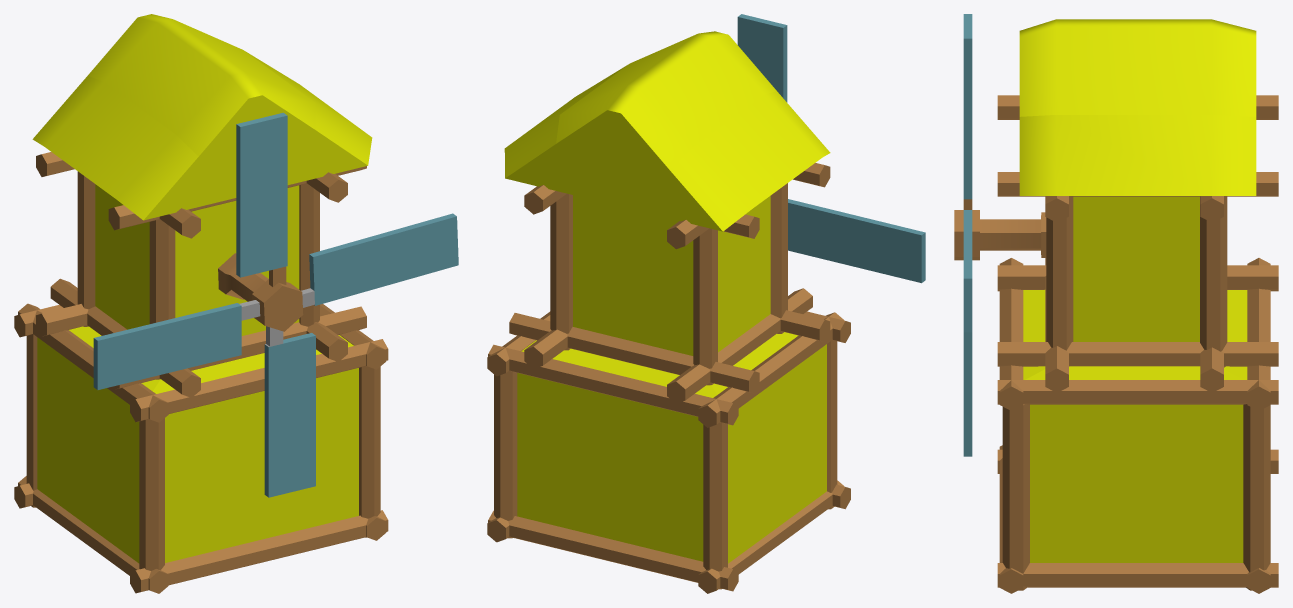
File: Windmill.fbx
3 renders of one model, left to right at view 1: azimuth 30°, elevation 25°; view 2: azimuth 150°, elevation 25°; view 3: azimuth 270°, elevation 25°, orthographic. The views are drawn at different scales.
Parts seen in each view (by area): view 1: pCylinder27, pCylinder26; view 2: pCylinder27, pCylinder26; view 3: pCylinder27, pCylinder26.
Boxes of the visible parts, box(x1,y1,x2,y2) form: pCylinder27: box(14, 14, 388, 593); pCylinder26: box(93, 112, 458, 497); pCylinder27: box(487, 31, 850, 593); pCylinder26: box(737, 14, 925, 283); pCylinder27: box(997, 19, 1278, 593); pCylinder26: box(954, 14, 1046, 456).
Size of the model in its own units: 16.61 by 20.84 by 12.1.
